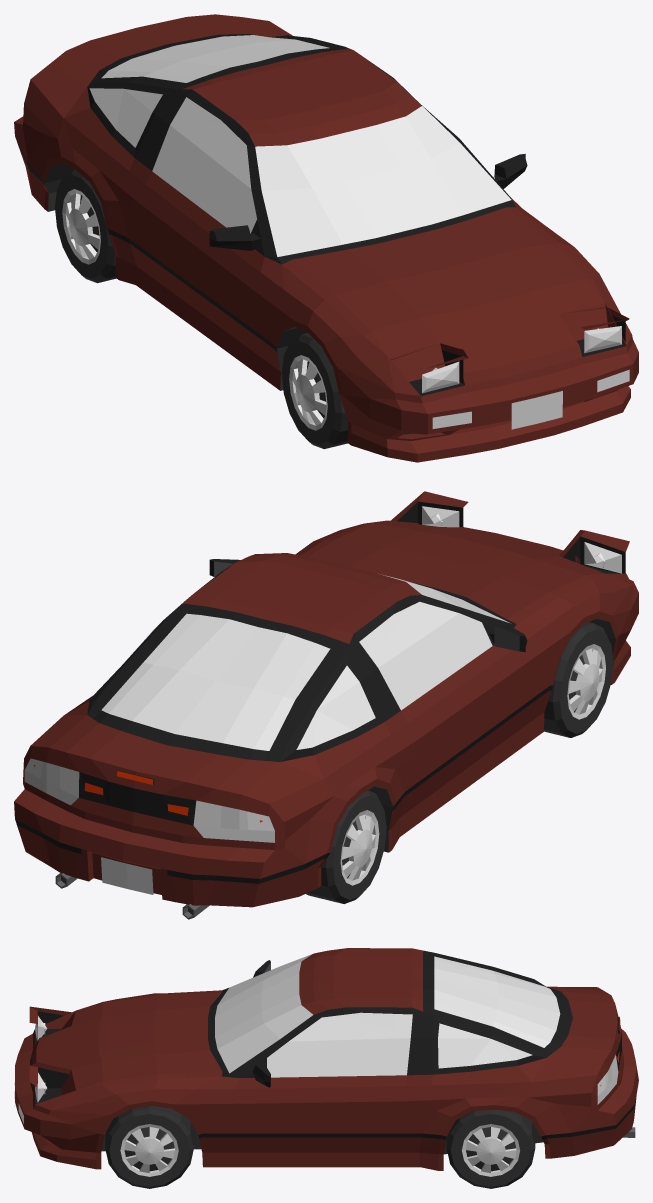
The model's file is Nissan_180NX.glb.
3 renders of one model, top to bottom at view 1: azimuth 30°, elevation 25°; view 2: azimuth 150°, elevation 25°; view 3: azimuth 270°, elevation 25°, orthographic. The views are drawn at different scales.
Visible parts, largest first — view 1: Plane.003, Cylinder.002, Cylinder.001, Plane.002; view 2: Plane.003, Cylinder.002, Cylinder.001, Plane.002; view 3: Plane.003, Cylinder, Cylinder.005, Plane.002.
Boxes of the visible parts, x1,y1,x2,y2 form: Plane.003: (14,14,638,462); Cylinder.002: (281,333,347,449); Cylinder.001: (55,169,116,283); Plane.002: (390,307,629,393); Plane.003: (14,520,638,919); Cylinder.002: (544,622,613,737); Cylinder.001: (306,790,386,903); Plane.002: (391,491,629,573); Plane.003: (14,948,638,1170); Cylinder: (105,1106,193,1188); Cylinder.005: (446,1109,535,1188); Plane.002: (29,1006,73,1102).
Bounding box in the file's own units: 2.82 × 1.84 × 6.42.
